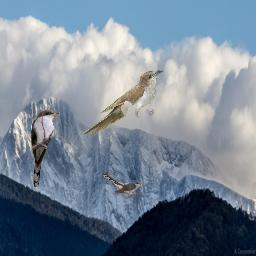Cuckoo: (81, 70, 163, 136), (30, 109, 60, 187), (102, 172, 144, 199)
